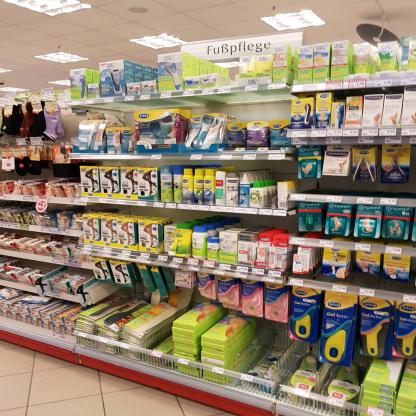Void: (304, 180, 412, 195), (256, 320, 284, 374), (252, 162, 296, 184)
